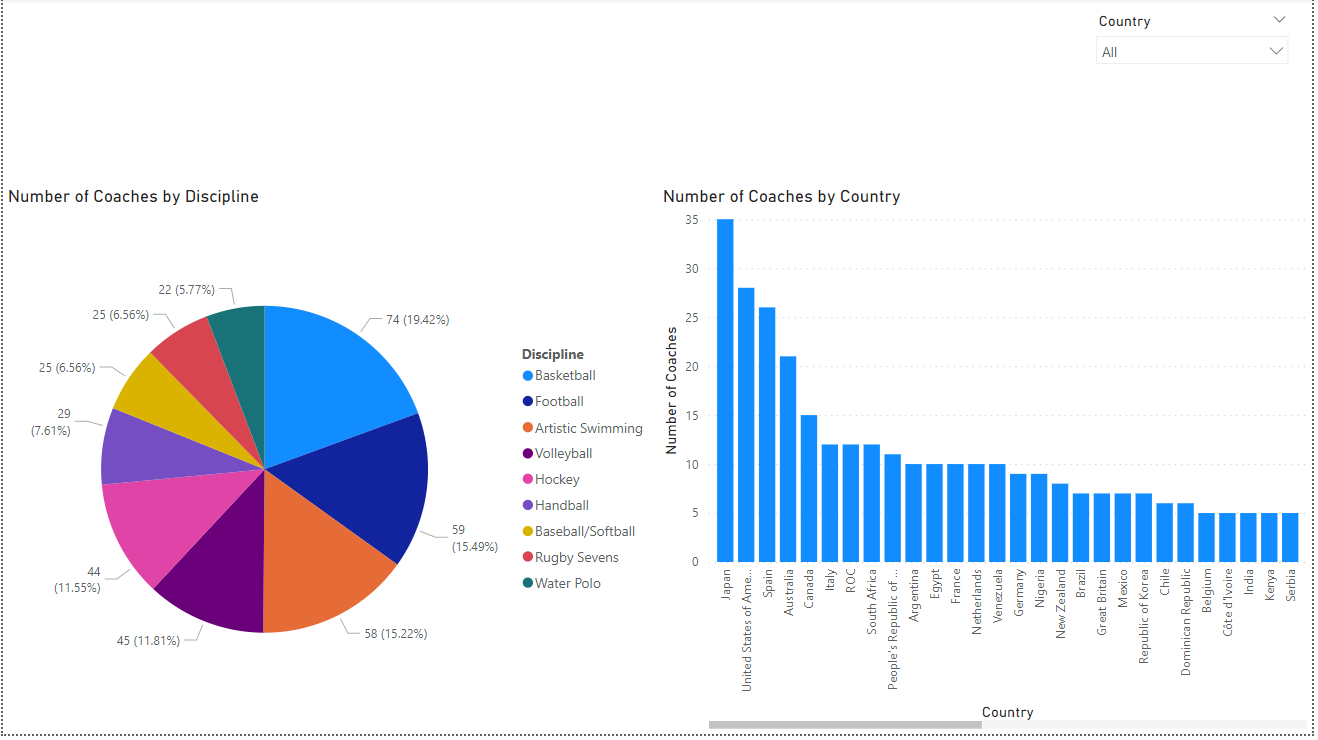

The page's visual inventory and layout, read from the dashboard file:
{"tool":"powerbi","page":{"name":"Coaches","canvas":[1280,720],"ordinal":1},"visuals":[{"type":"columnChart","fields":{"Category":["Coaches.Country"],"Y":["Count(Coaches.Name)"]},"box":[640,183.7,640,536.2],"z":0},{"type":"pieChart","fields":{"Category":["Coaches.Discipline"],"Y":["Count(Coaches.Name)"]},"box":[0,183.7,640,536.2],"z":1000},{"type":"slicer","fields":{"Values":["Coaches.Country"]},"box":[1058.7,8,208.8,94.7],"z":2001}]}

Visuals, with their boxes in screenshot pixels (x1, y1, x2, y2), scaled from the page's 1280x720 canvas onto the 1318x740 screenshot:
columnChart - Coaches.Country x Count(Coaches.Name): (left=659, top=189, right=1317, bottom=739)
pieChart - Coaches.Discipline x Count(Coaches.Name): (left=0, top=189, right=659, bottom=739)
slicer - Coaches.Country: (left=1090, top=8, right=1305, bottom=106)
